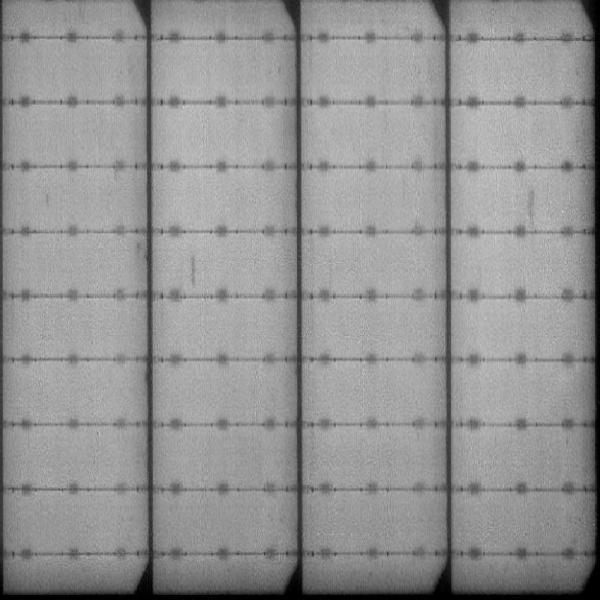scratch: (187, 246, 200, 288)
